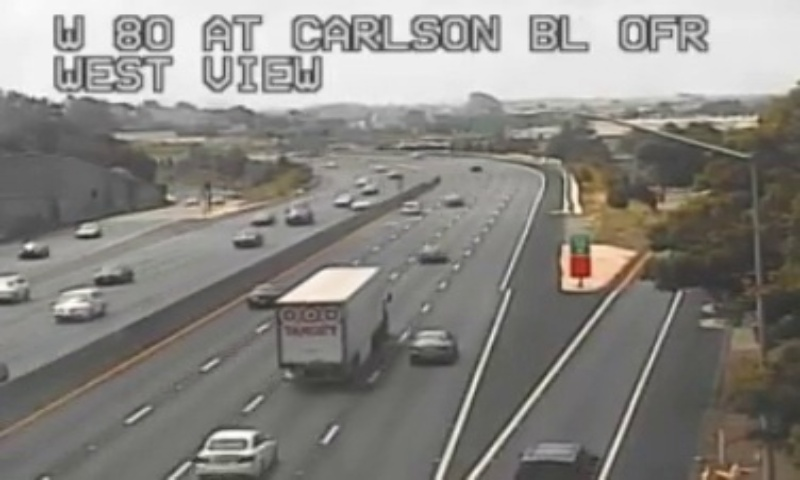car: (195, 429, 280, 476), (514, 442, 595, 480), (408, 328, 455, 362), (246, 283, 285, 306)
truck: (272, 265, 389, 387)
